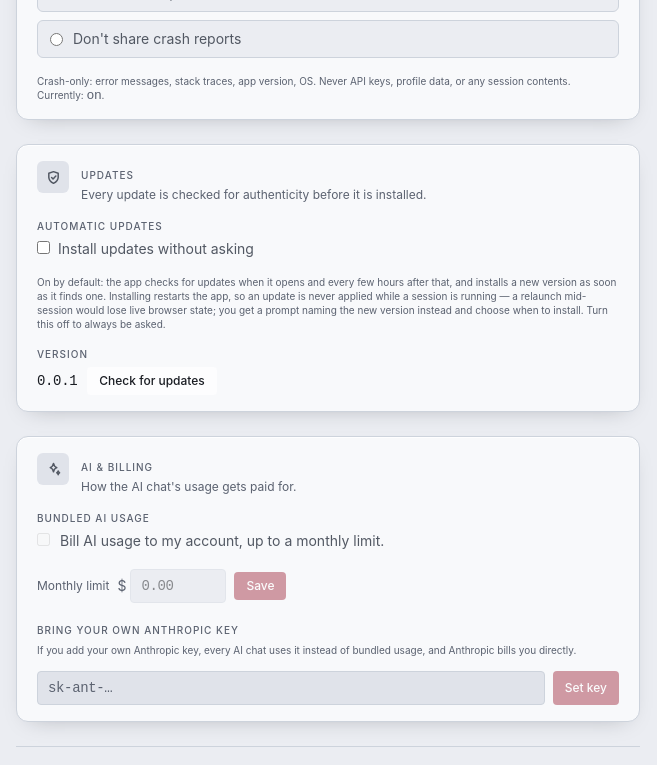
Test case: Settings offers to install the update it just found (N-8) › offers NO install button when there is nothing to install
The width and height of the screenshot is (657, 765).
(page scrolled)
Click the button "Check for updates" at [152, 381], box [87, 367, 217, 395]
(page scrolled)
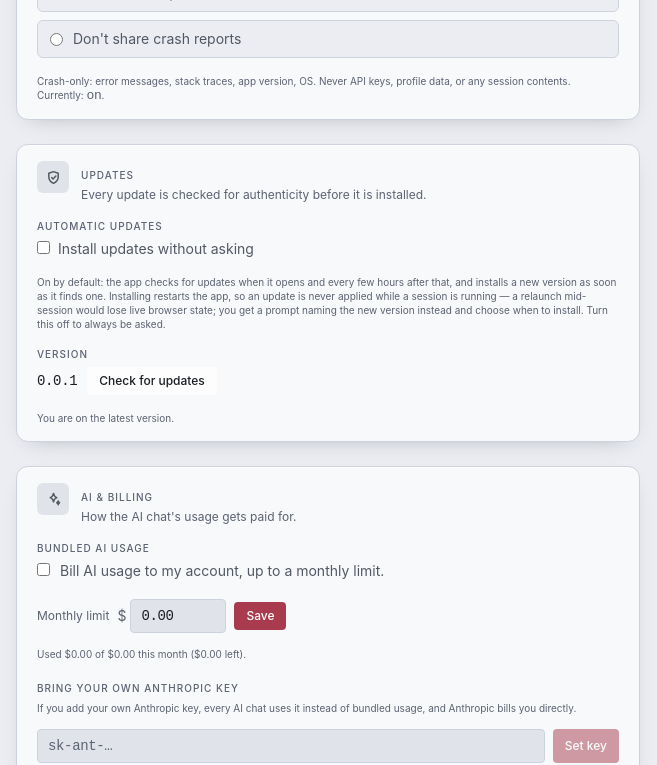
Now the message "You are on the latest version." is shown, box [37, 412, 174, 424]
